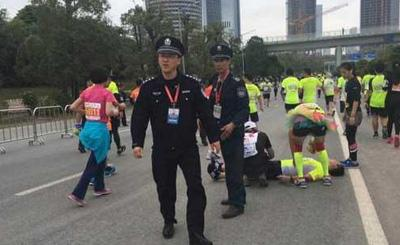10+: (64, 32, 400, 245)
down: (204, 154, 347, 183)
